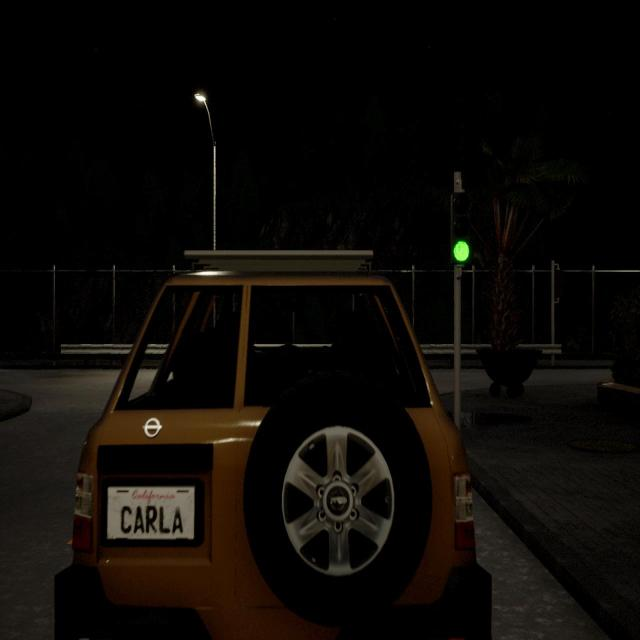Vehicle: (56, 243, 492, 638)
traffic_light: (450, 192, 472, 266), (554, 269, 562, 298)
